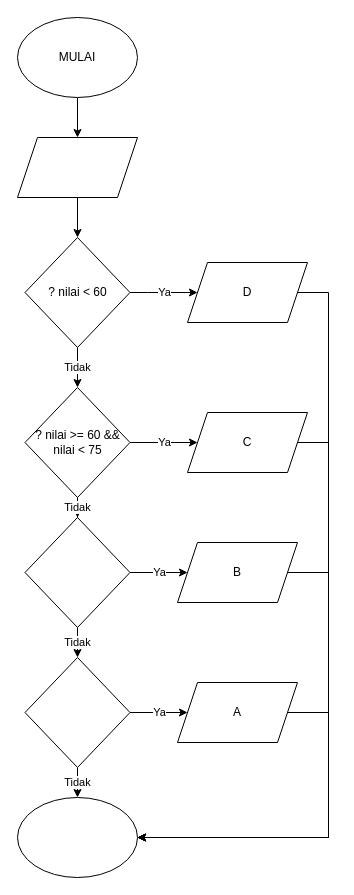
Image size: 354x895. Some labels were removed from this diagram. Each missing label, with the centre of its shape:
? nilai >= 75 && nilai < 85: the point at 77,572
? nilai >= 85: the point at 77,712
Masukan nilai: the point at 77,167
SELESAI: the point at 77,837
